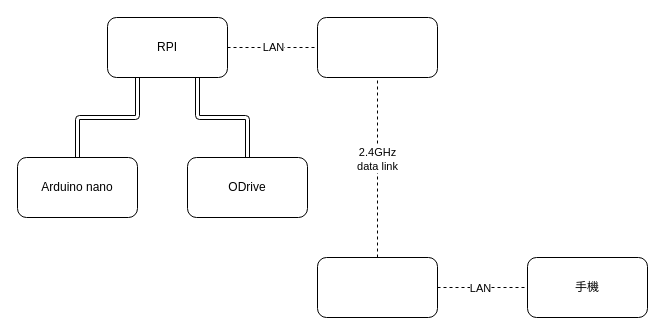
Image size: 665x335. Some labels were removed from this diagram. The shapes that lost their labels are listed below. From the top down, each one's box as (x1, y1, x2, y2) in pixels, then its label:
(316, 16, 438, 78): 基站1
(316, 256, 438, 318): 基站2
